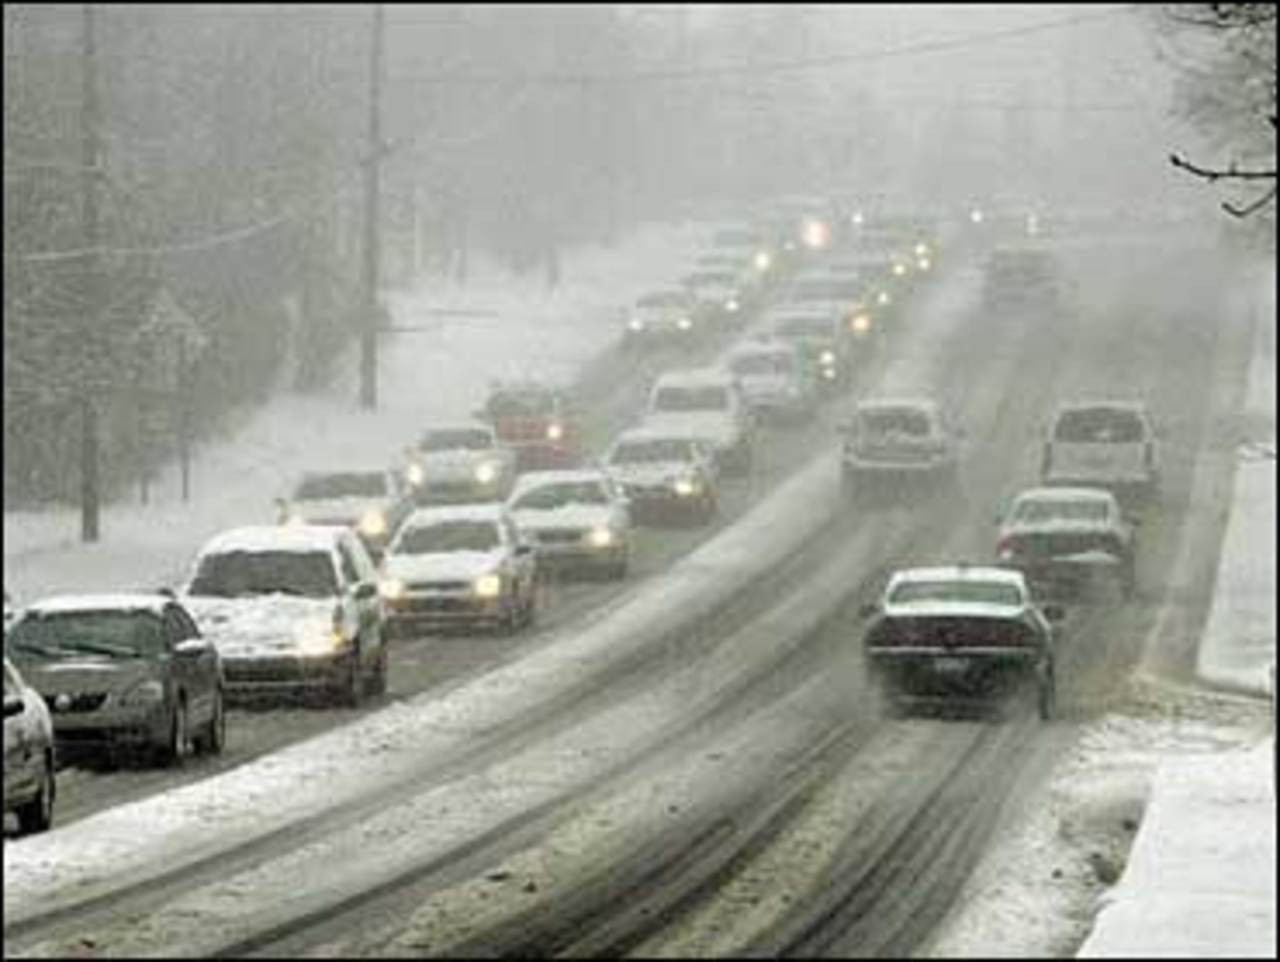car: (183, 523, 395, 710), (13, 588, 228, 772), (862, 563, 1058, 723), (377, 503, 544, 642), (503, 471, 639, 583), (1043, 400, 1162, 516), (998, 487, 1130, 584), (634, 368, 747, 471), (602, 430, 719, 523), (843, 393, 956, 479), (282, 471, 405, 544), (406, 421, 506, 494), (794, 267, 873, 358), (478, 389, 580, 456), (977, 240, 1064, 314), (727, 338, 809, 415), (767, 307, 843, 384), (622, 293, 708, 344), (711, 229, 775, 280), (687, 265, 742, 321)
